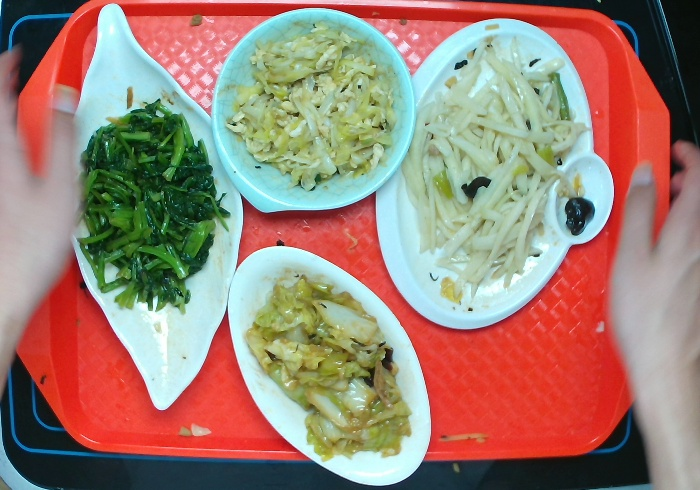RJxy-Bai_Se_Tuo_Yuan: (222, 241, 434, 490)
RJxy-Shu_Ye_Pan: (55, 1, 247, 413)
RJxy-Xiao_Jiao_Yuan_Wan: (206, 3, 420, 218)
RJxy-Zhan_Liao_Pan: (370, 14, 618, 333)
